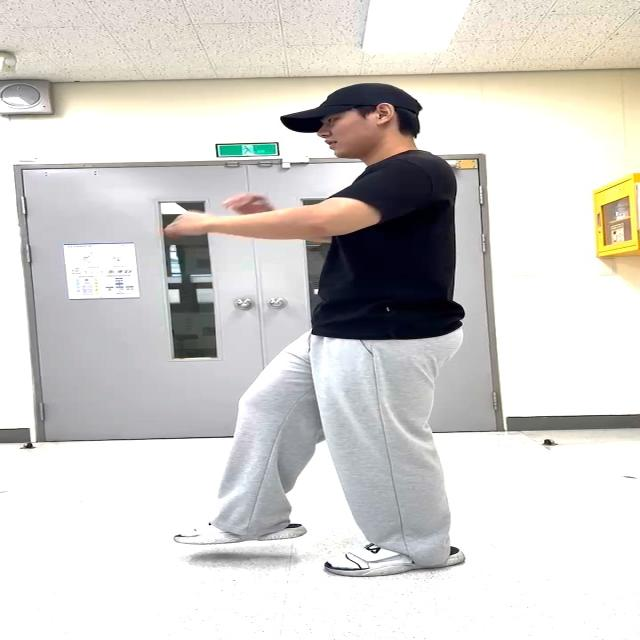leg: (188, 349, 312, 540)
